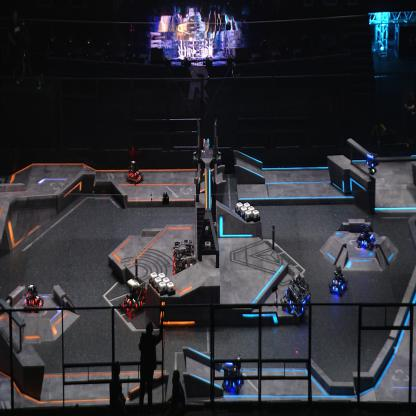car: (281, 273, 311, 320), (171, 239, 197, 282), (119, 276, 146, 317), (221, 356, 245, 394), (22, 283, 43, 314), (328, 266, 349, 295), (357, 224, 375, 251), (126, 158, 144, 184)
